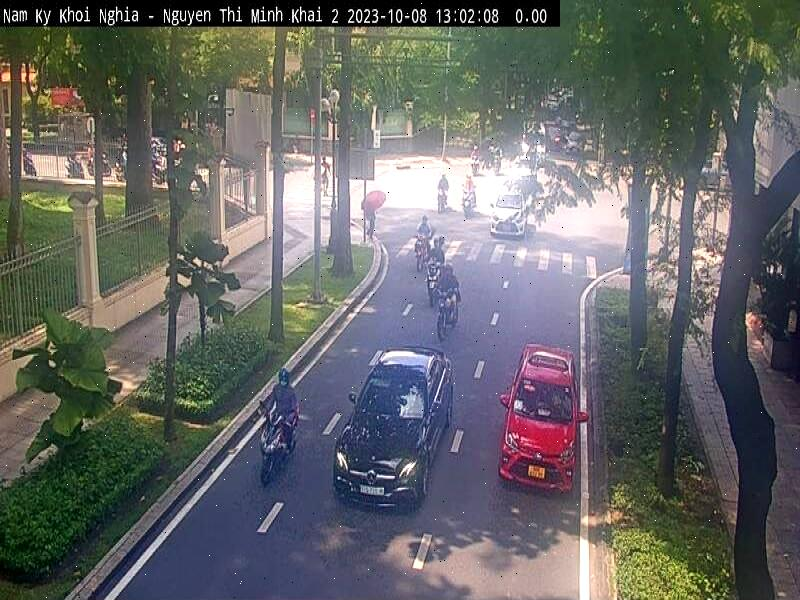car: (330, 348, 453, 514), (498, 348, 584, 490), (507, 151, 542, 217), (519, 120, 552, 179), (490, 194, 527, 236)
motorcycle: (249, 404, 308, 482), (434, 287, 458, 345), (424, 254, 440, 320), (458, 167, 478, 219), (413, 222, 430, 282), (64, 144, 88, 181)
